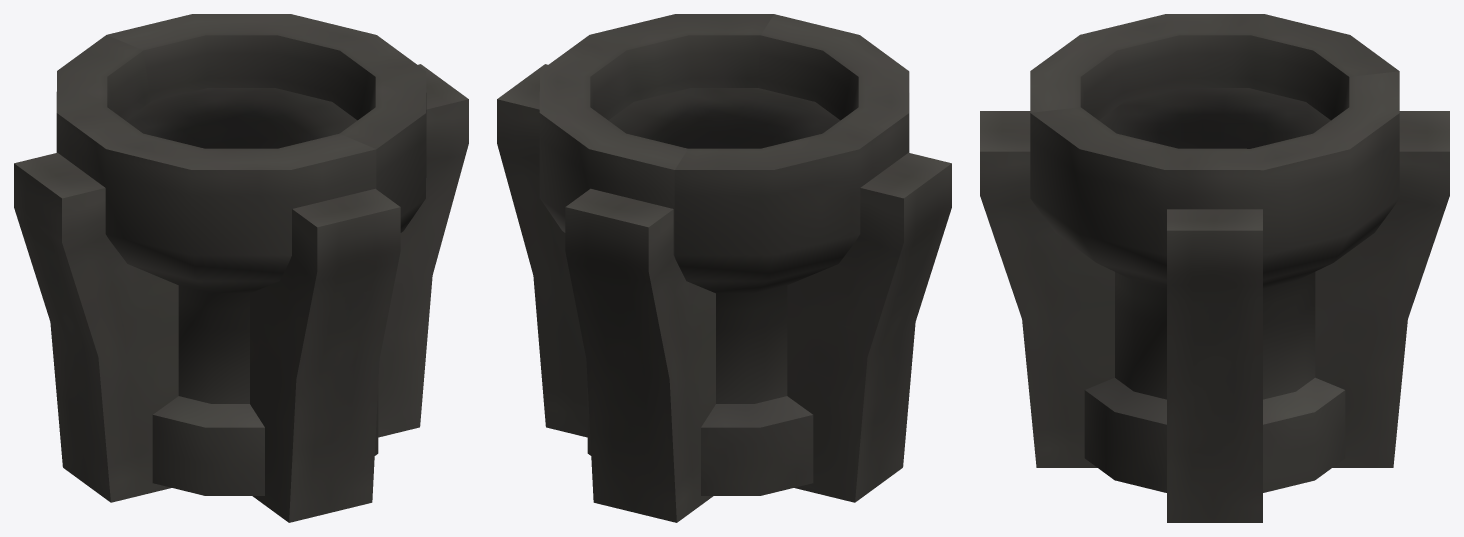
The model's file is Jar2B.fbx.
3 renders of one model, left to right at view 1: azimuth 30°, elevation 25°; view 2: azimuth 150°, elevation 25°; view 3: azimuth 270°, elevation 25°, orthographic.
Parts seen in each view (by area): view 1: Jar2B; view 2: Jar2B; view 3: Jar2B.
Boxes of the visible parts, x1,y1,x2,y2 form: Jar2B: [14, 14, 468, 522]; Jar2B: [497, 14, 951, 522]; Jar2B: [980, 14, 1449, 522].
Bounding box in the file's own units: 97.1 × 81.06 × 97.1.
Materials: 1 (1 with a texture image).
